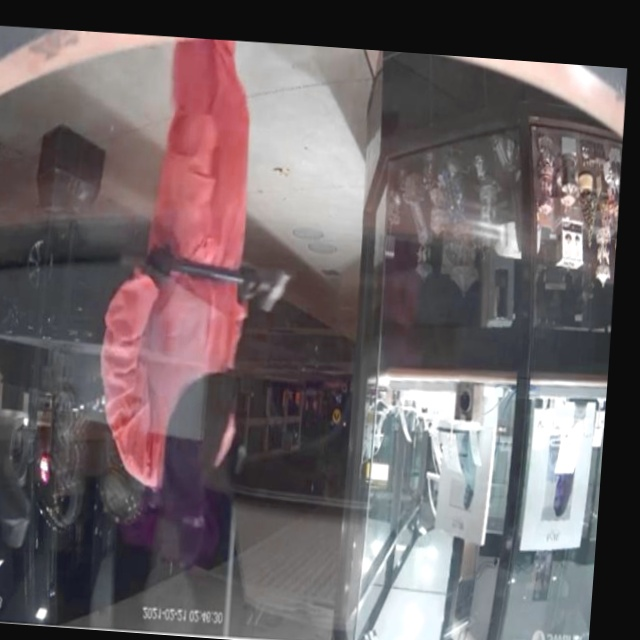gun: (114, 238, 294, 322)
